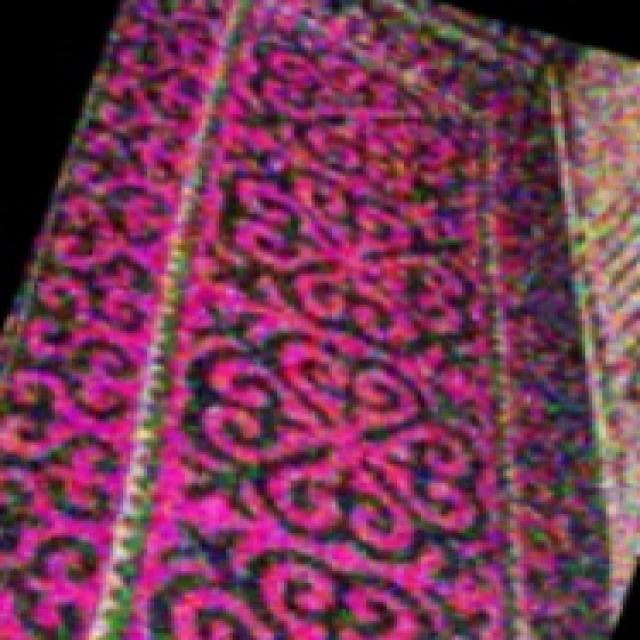Unity: (174, 304, 486, 594), (205, 134, 481, 369)
